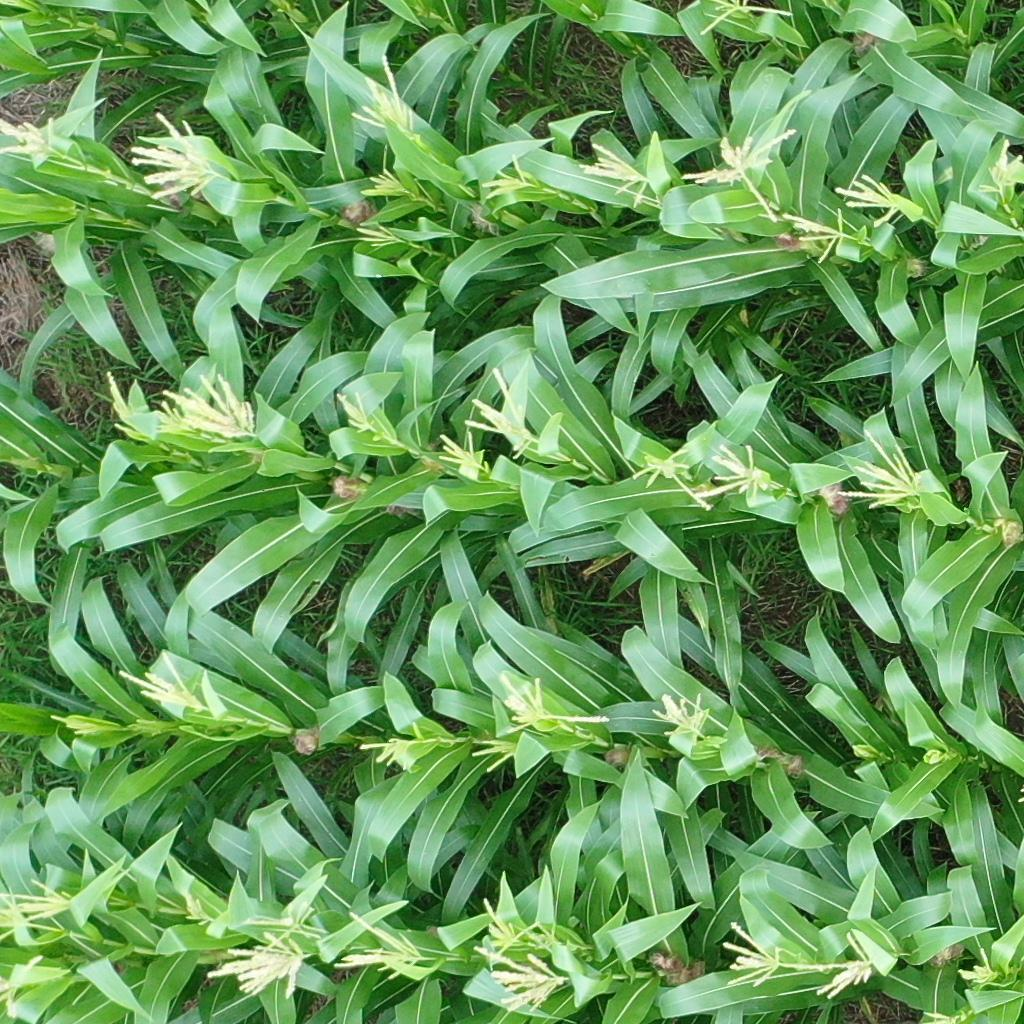Tassel: (682, 127, 796, 225), (126, 110, 236, 205), (461, 362, 539, 461), (326, 906, 428, 981), (163, 371, 262, 448), (349, 48, 427, 145), (835, 425, 926, 508), (494, 669, 606, 736), (91, 370, 193, 442), (632, 433, 715, 516), (202, 937, 311, 1000), (794, 920, 882, 995), (575, 139, 658, 210), (113, 649, 202, 714), (696, 436, 768, 509), (719, 915, 791, 986), (475, 945, 573, 993), (838, 173, 915, 234), (1, 866, 81, 924), (473, 897, 541, 958), (780, 206, 854, 259), (648, 686, 711, 745), (1, 887, 63, 941), (972, 132, 1022, 198), (699, 1, 793, 36), (1, 113, 65, 163), (435, 430, 494, 480), (480, 151, 537, 202), (250, 900, 322, 936), (953, 944, 1003, 992), (335, 386, 382, 435), (361, 165, 415, 207), (359, 733, 416, 769), (354, 219, 406, 254), (470, 734, 519, 771), (526, 915, 570, 955), (50, 713, 103, 739), (182, 895, 213, 927)
